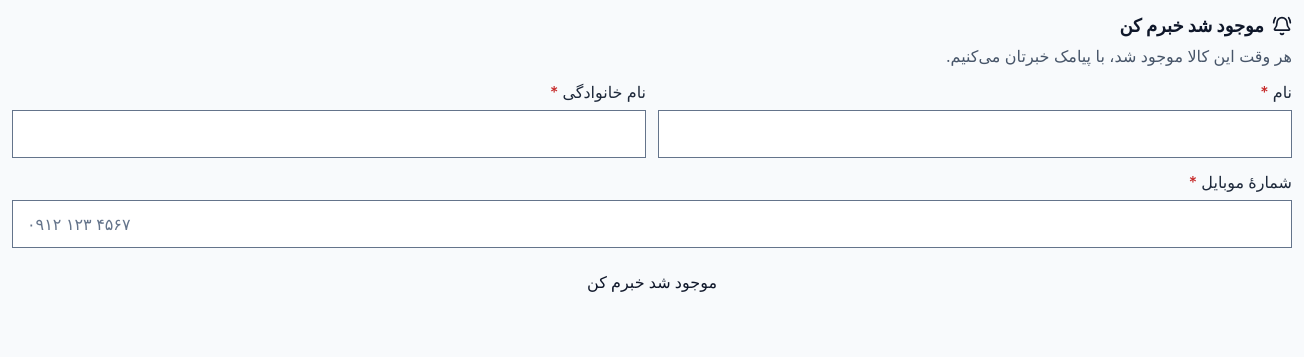
NotifyMe for a guest › says why when the request fails with no connection (no field to show it under)
Step 1. Type "سارا" into the field named "نام (" → (975, 134), box [659,111,1291,157]
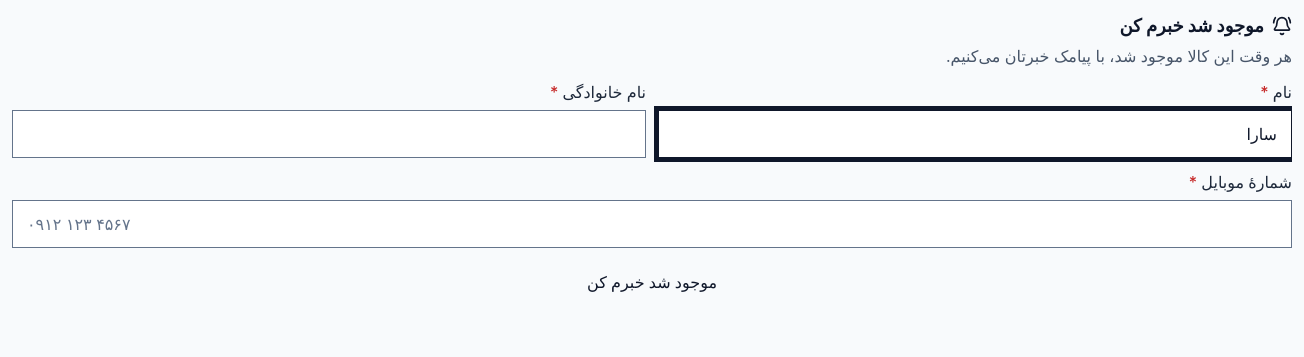
Step 2. Type "احمدی" into the field labelled "نام خانوادگی *" → (329, 134), box [13,111,645,157]
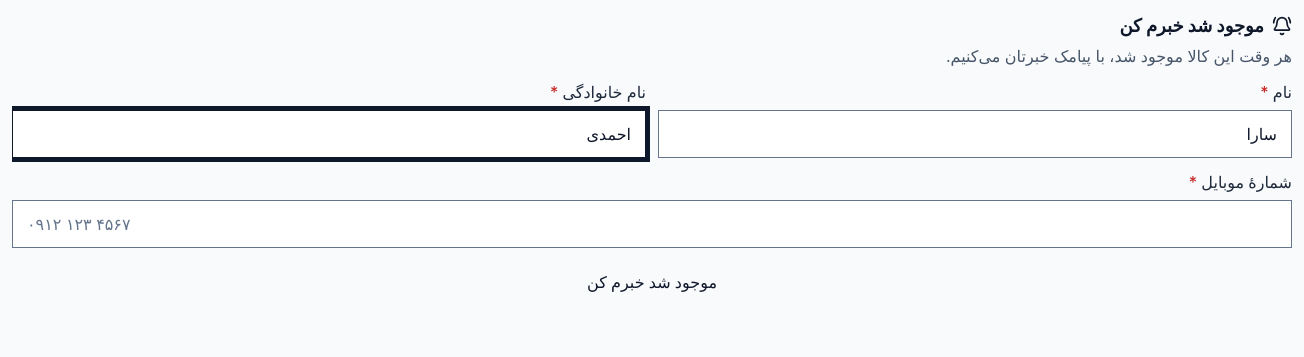
Step 3. Type "09121234567" into the field labelled "شمارهٔ موبایل *" → (652, 224), box [13,201,1291,247]
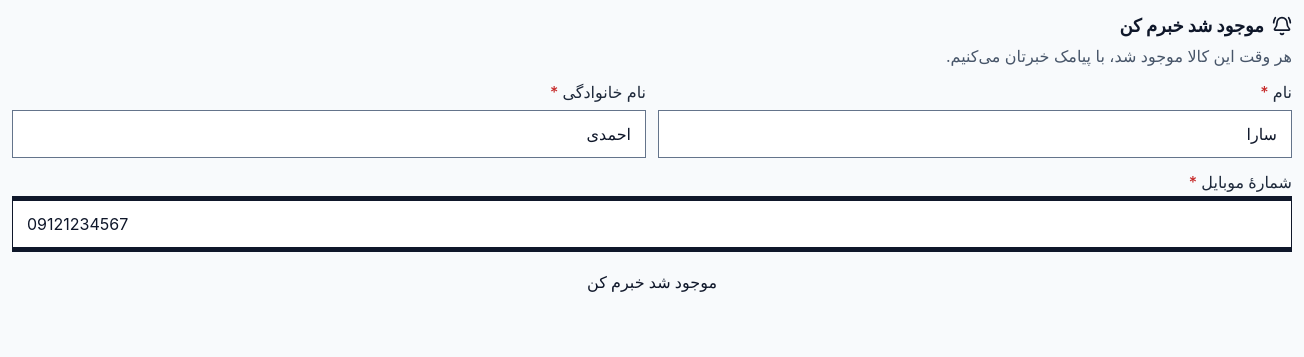
Step 4. Click the button "موجود شد خبرم کن" → (652, 282), box [12,260,1292,304]
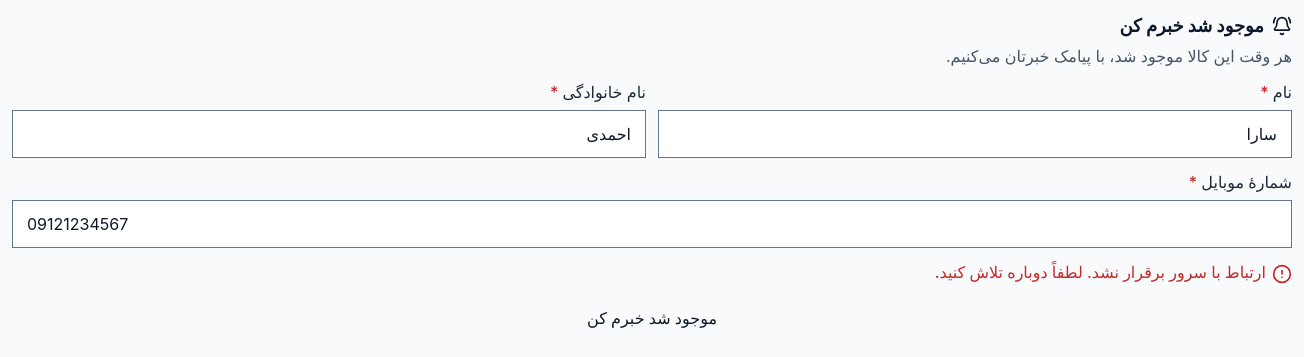
Expected: the button "موجود شد خبرم کن" is enabled, [12,296,1292,340]
Result: the message reads "ارتباط با سرور برقرار نشد. لطفاً دوباره تلاش کنید." at [935,262,1266,282]
